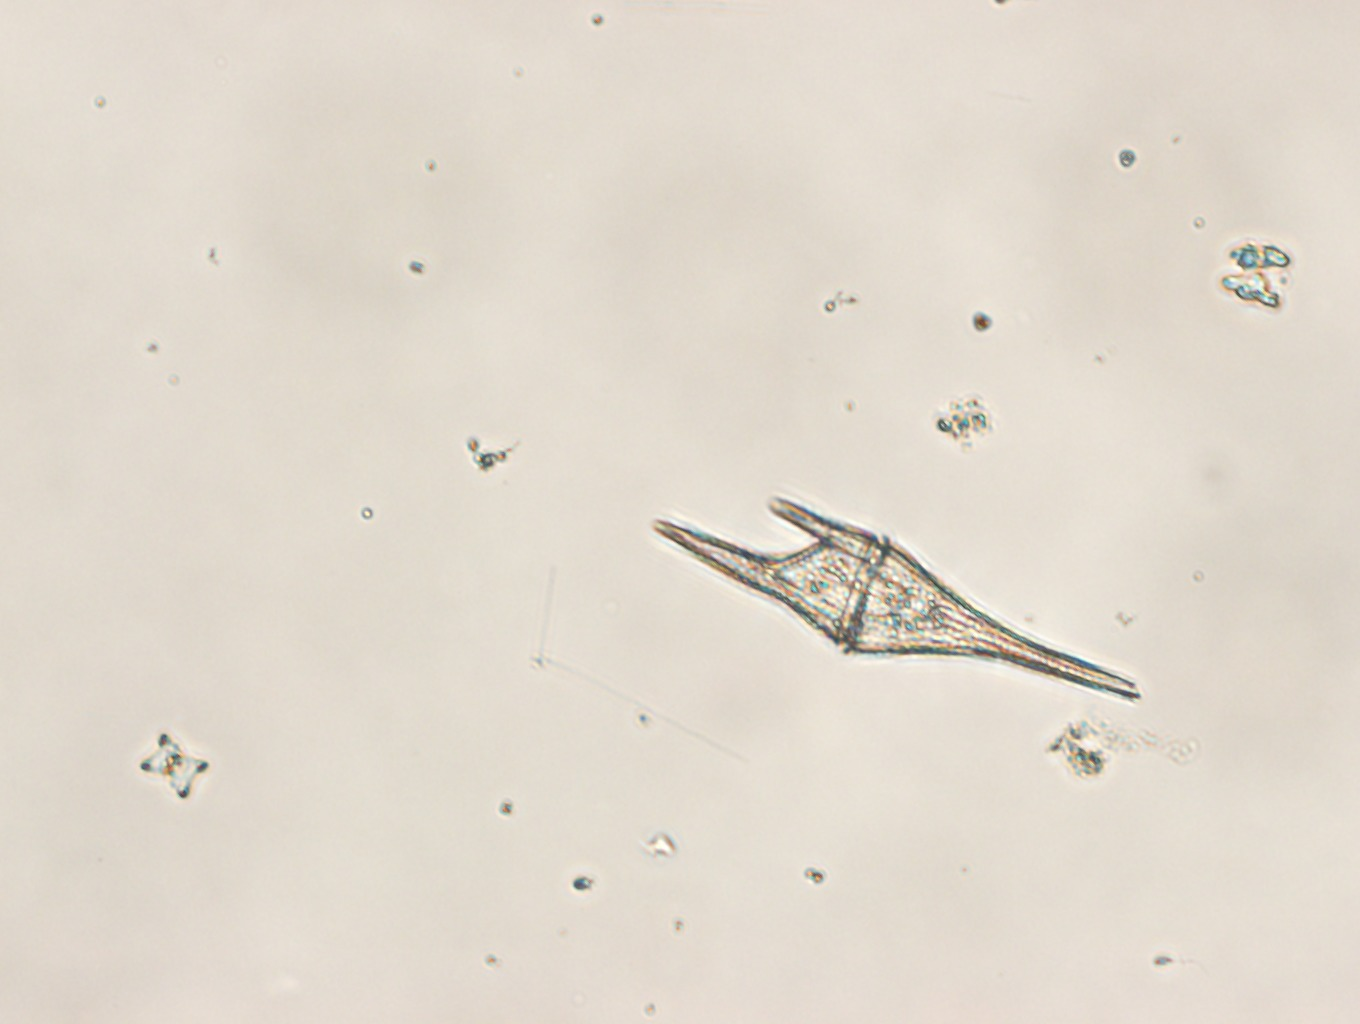ceratium furca: (653, 498, 1143, 703)
